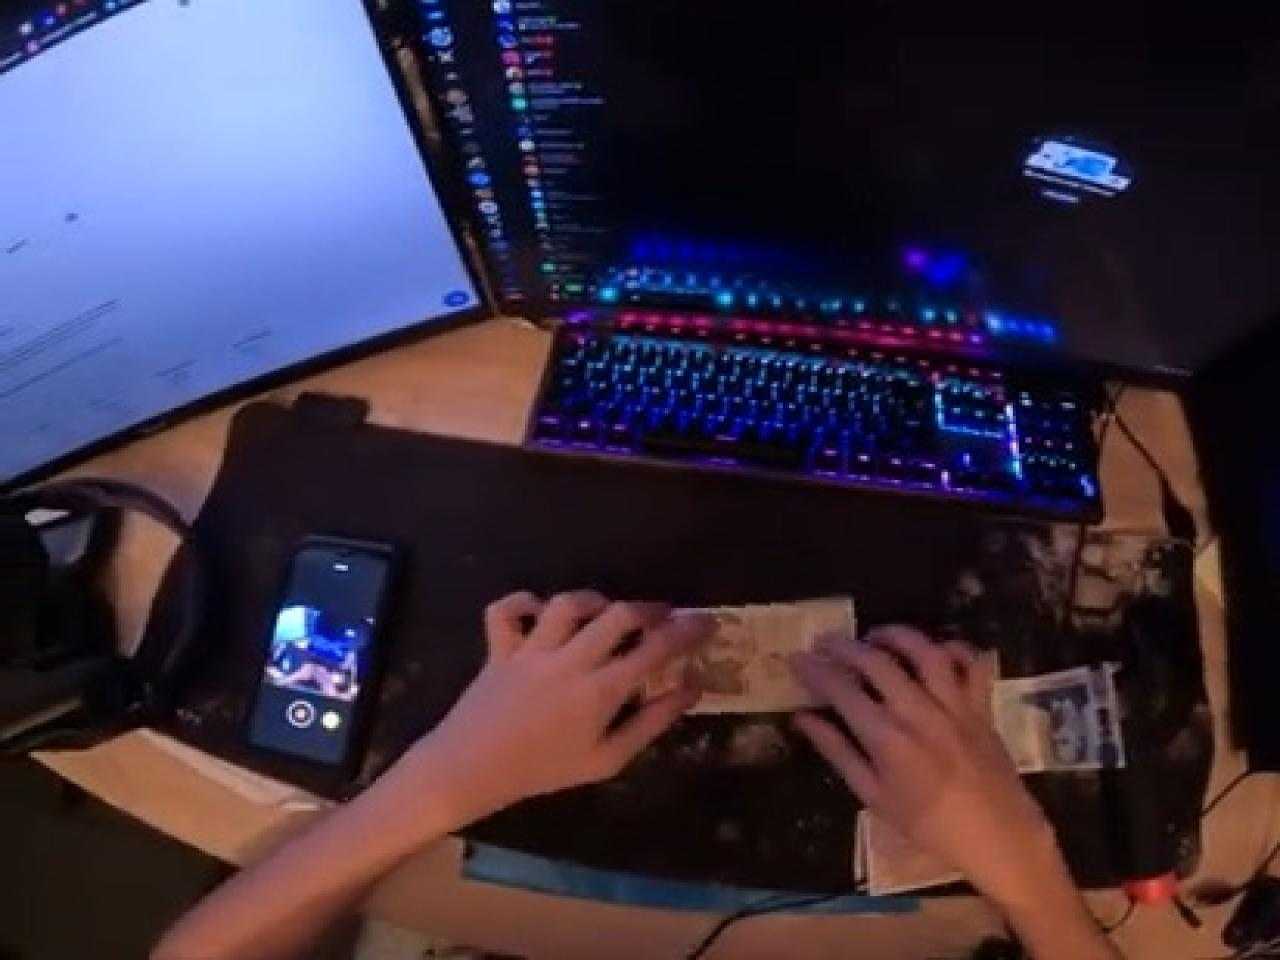50leva: (677, 597, 855, 717)
